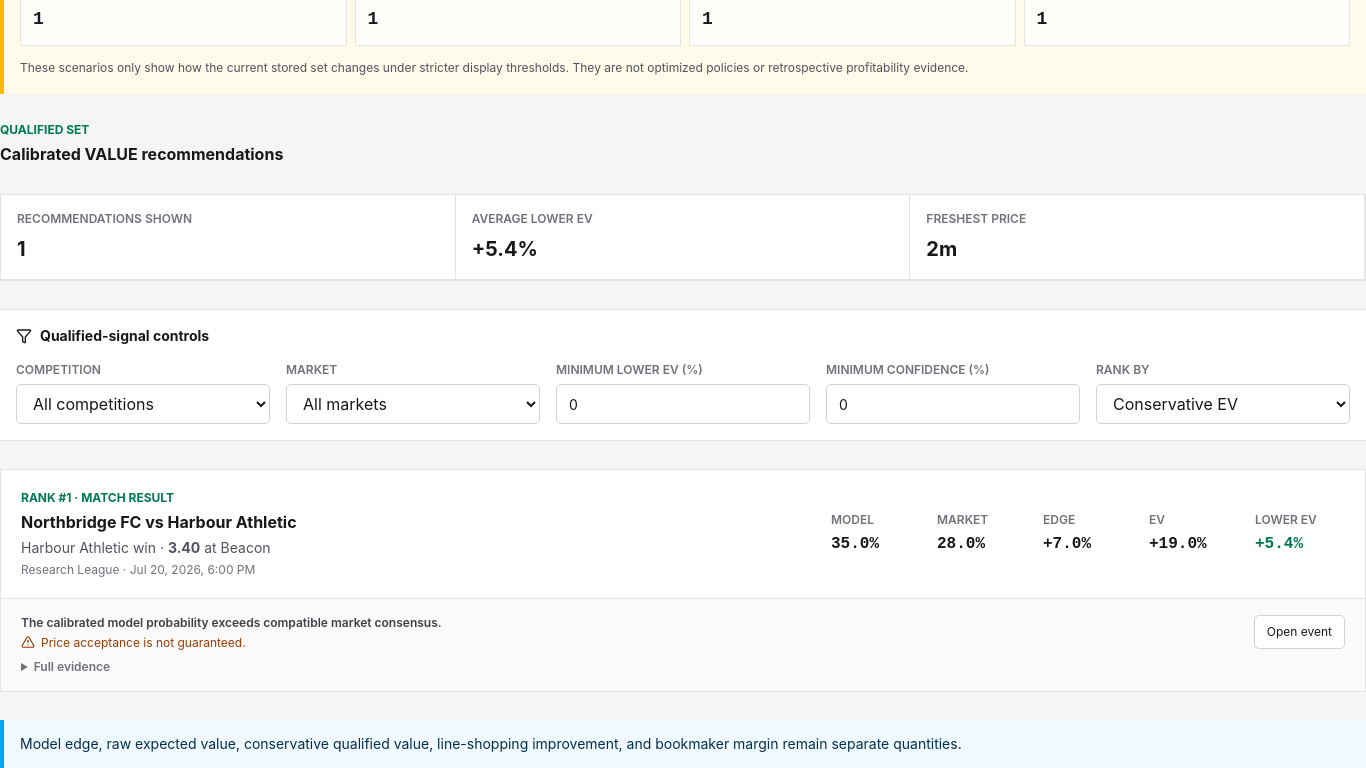
ValueOpportunities › shows conservative value evidence and immutable provenance
(page scrolled)
expect the text "+5.4%" is shown 2 times: met, box [472,237,538,261]; [1255,535,1303,553]
expect the text "not optimized policies" is shown: met, box [20,60,969,75]
Click the heading "Full evidence" at (72, 666), box [34,659,110,674]
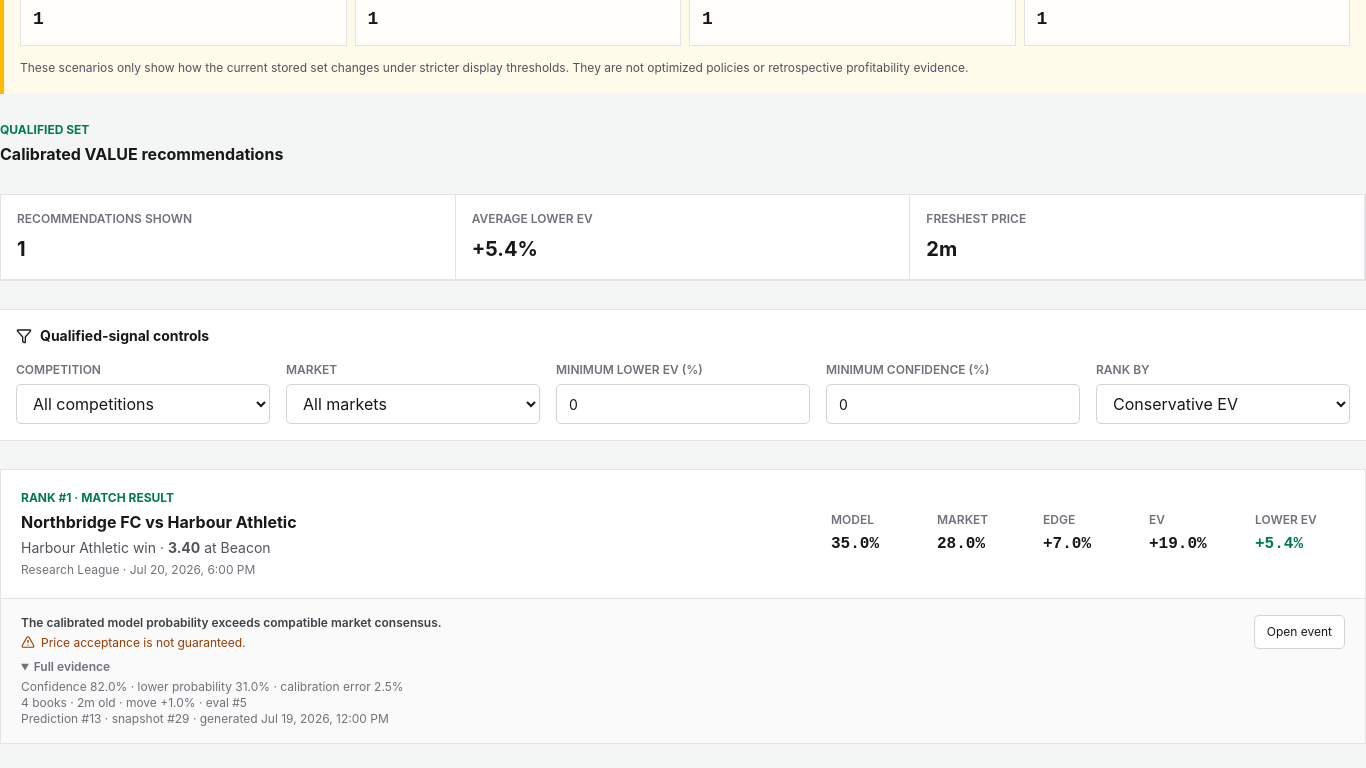
expect the text "Prediction #13 · snapshot #29" is shown: met, box [21,711,389,726]
